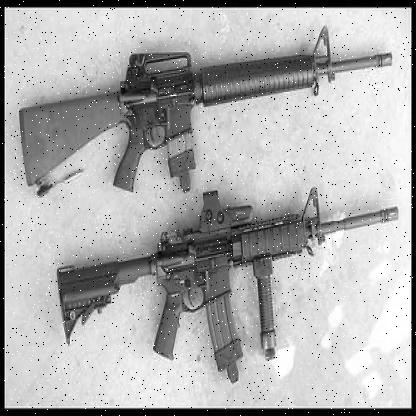rifle: (59, 163, 409, 404), (11, 22, 398, 224)
